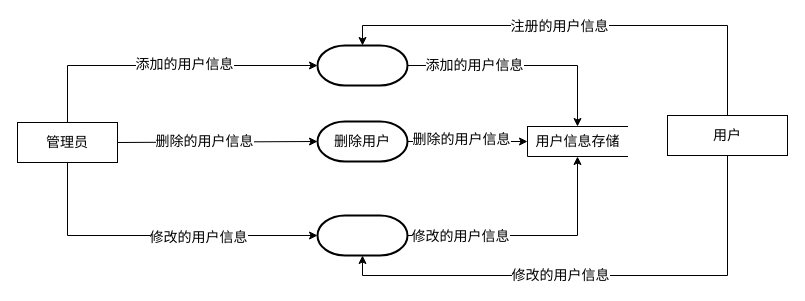
Image size: 805x301. Some labels were removed from this diagram. Here are the shapes that lost their labels. From the top down, the box of each, then its label:
(316, 44, 408, 86): 添加用户
(316, 214, 408, 256): 修改用户
